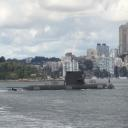submarine: (22, 73, 118, 91)
